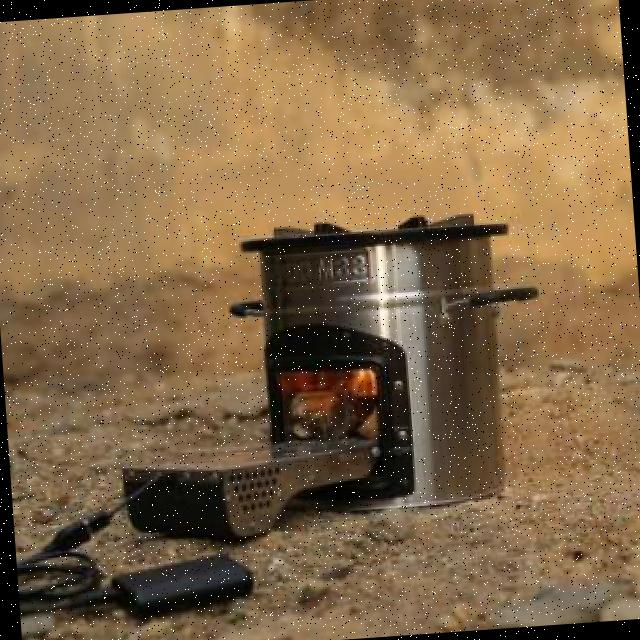fire: (280, 364, 374, 434)
